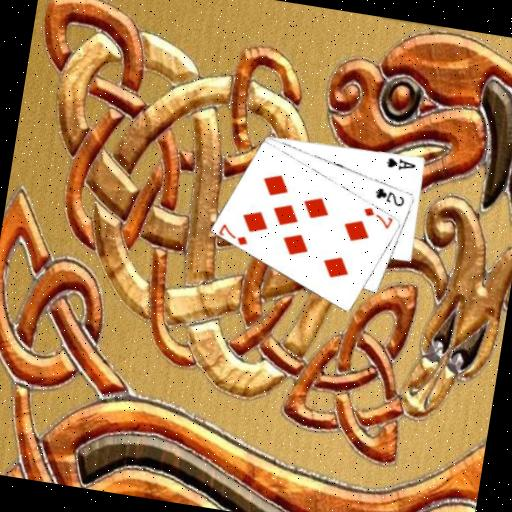2C: (370, 183, 407, 208)
7D: (358, 203, 395, 231), (215, 219, 252, 247)
AS: (382, 153, 418, 174)
